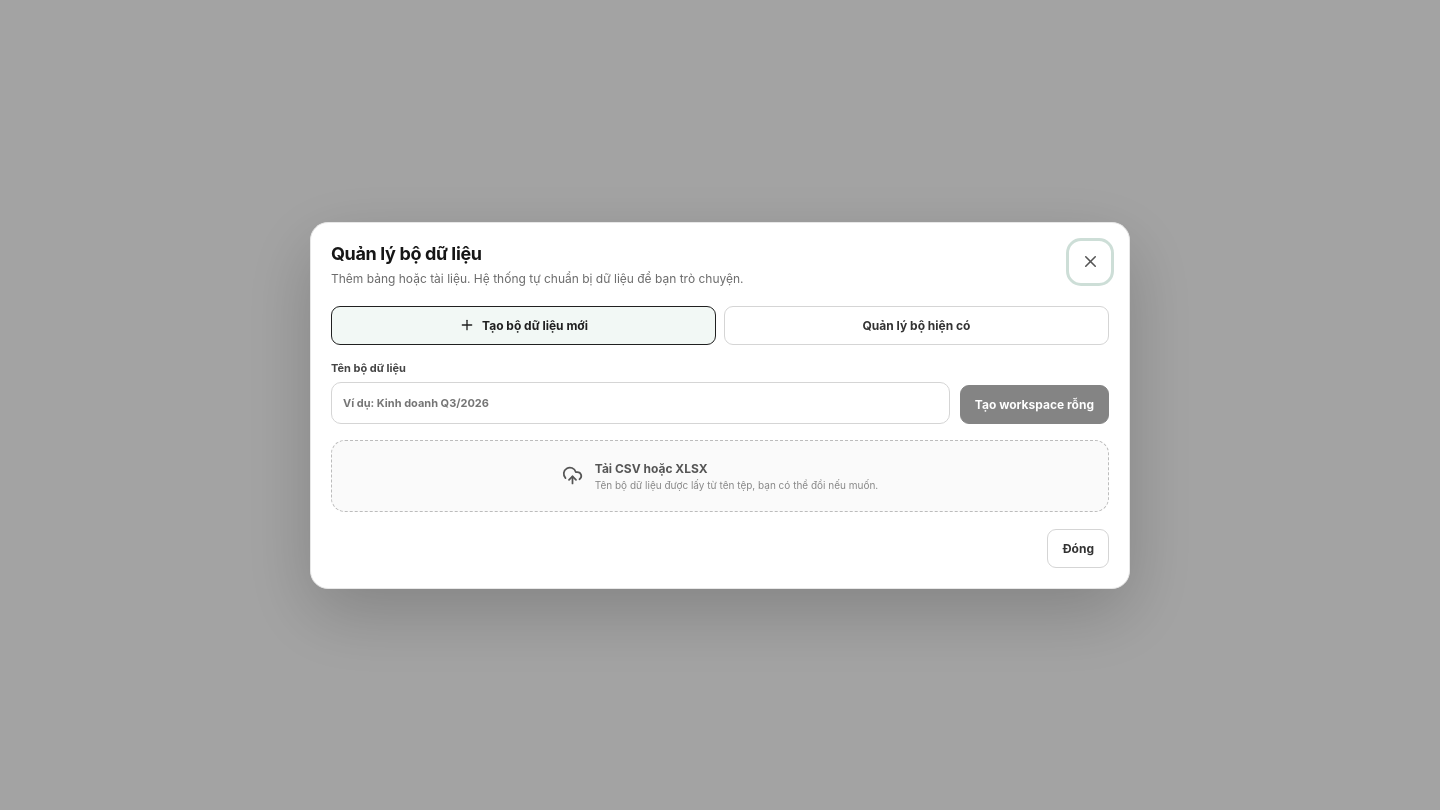
Test: workspace deletion › keeps sources on failure and requires explicit consent to delete history
Click the tab "Quản lý bộ hiện có".
click(916, 325)  # box top-left (724, 306), bottom-right (1109, 344)
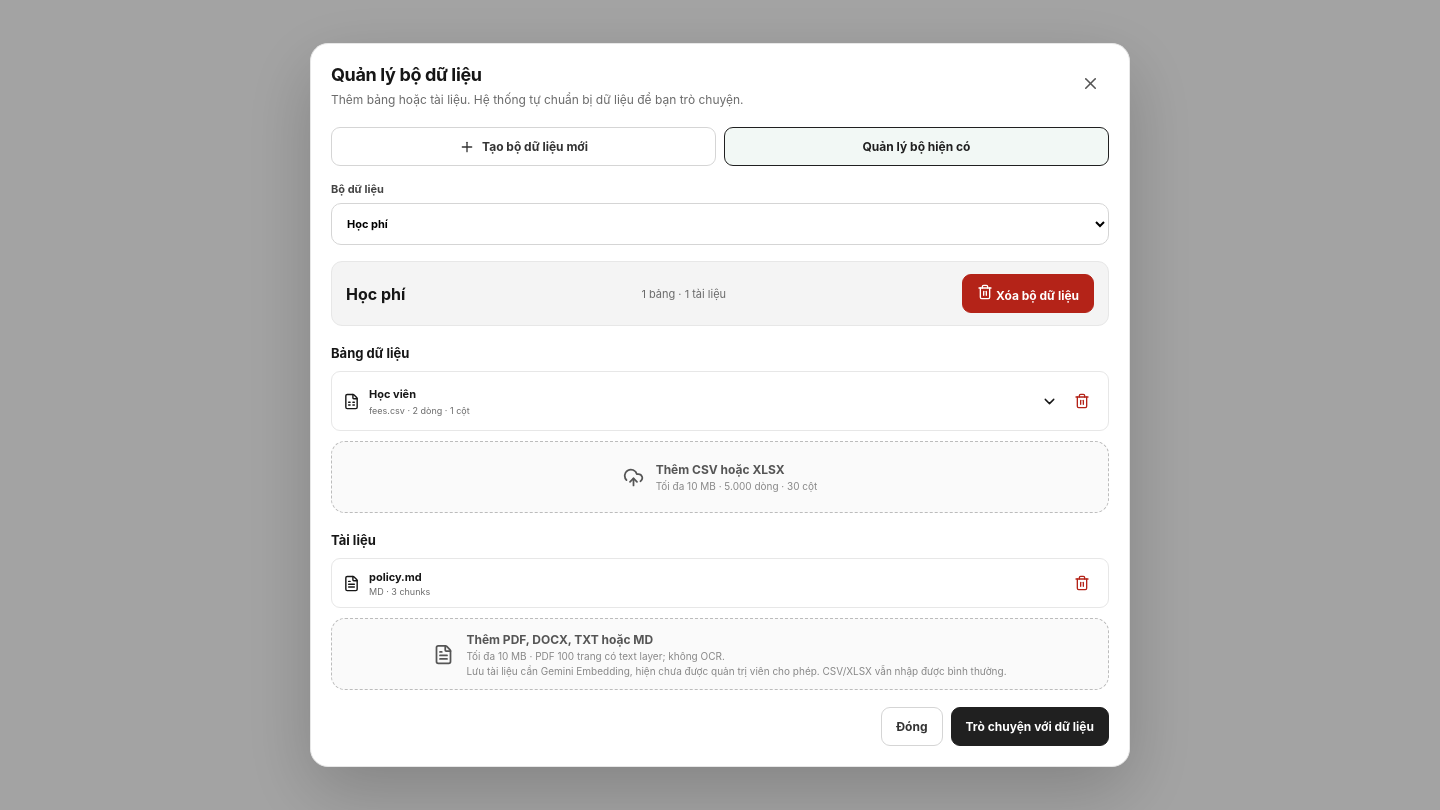
Expected: the text "policy.md" is shown, top-left (369, 570), bottom-right (422, 584)
Click the button "Xóa bộ dữ liệu".
click(1028, 294)  # box top-left (962, 274), bottom-right (1094, 313)
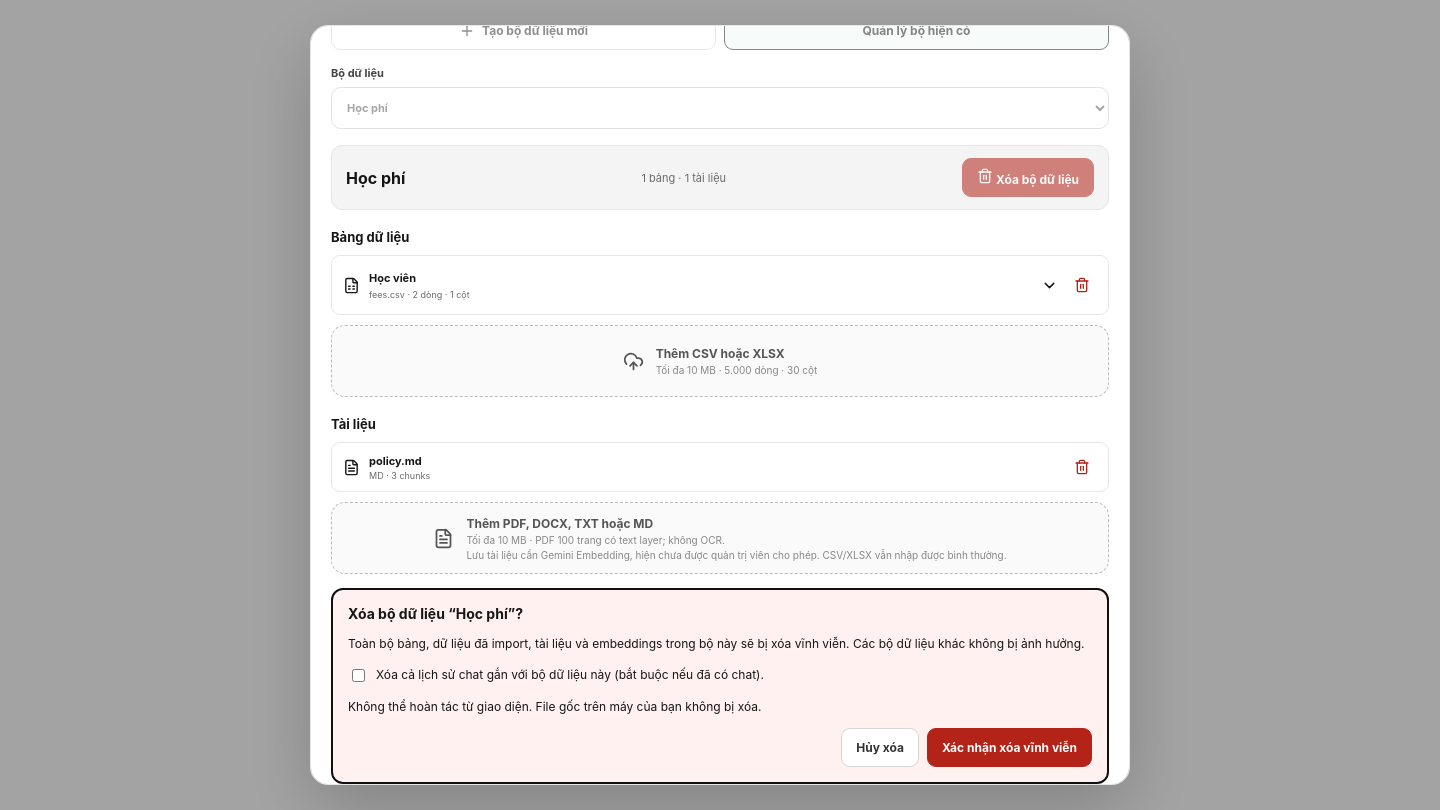
Click the button "Xác nhận xóa vĩnh viễn".
click(1009, 748)  # box top-left (927, 728), bottom-right (1092, 767)
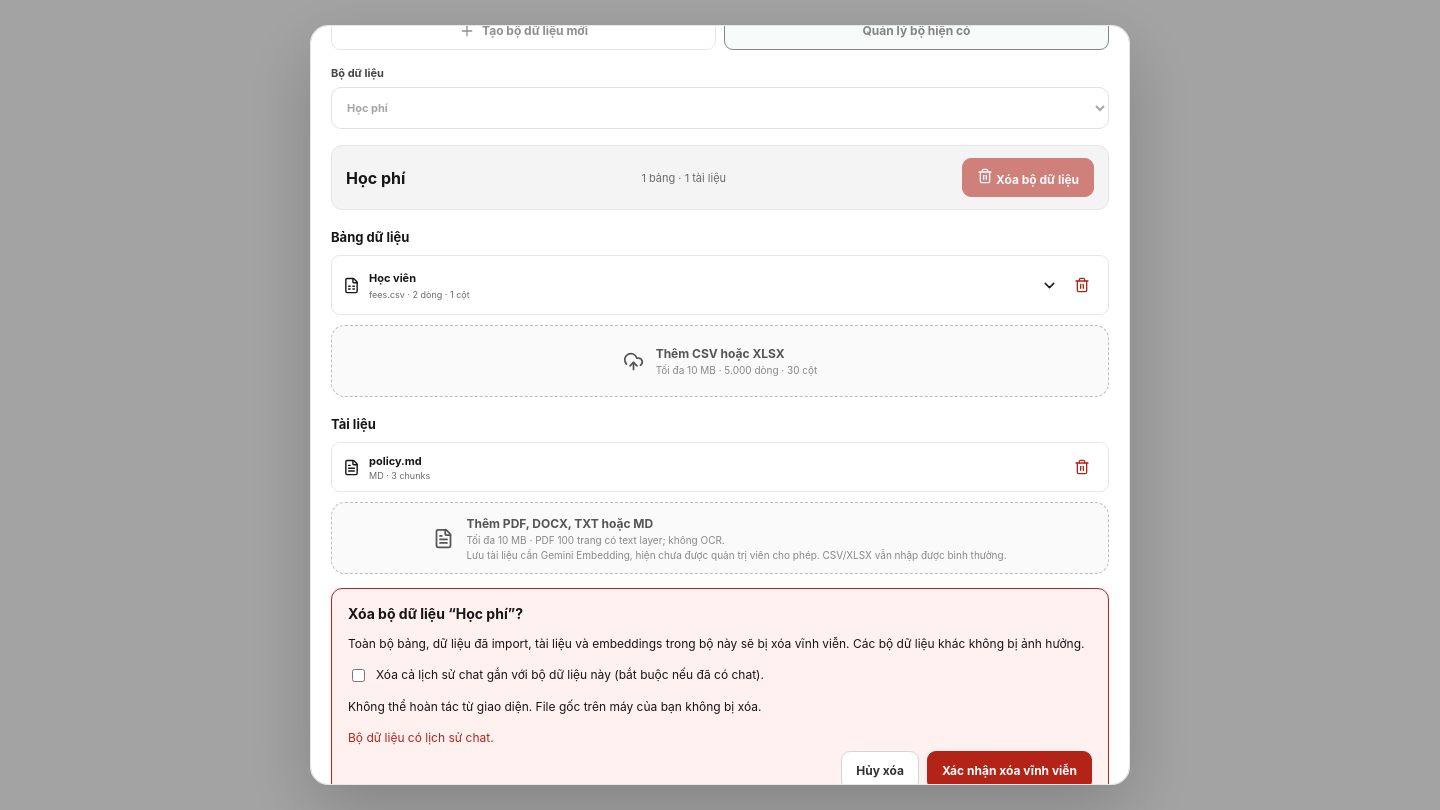
Expected: the text "policy.md" is shown, top-left (369, 454), bottom-right (422, 468)
Expected: the message reads "Bộ dữ liệu có lịch sử chat.", top-left (348, 730), bottom-right (494, 745)
Click the checkbox labelled "Xóa cả lịch sử chat".
click(358, 676)  # box top-left (352, 669), bottom-right (365, 682)
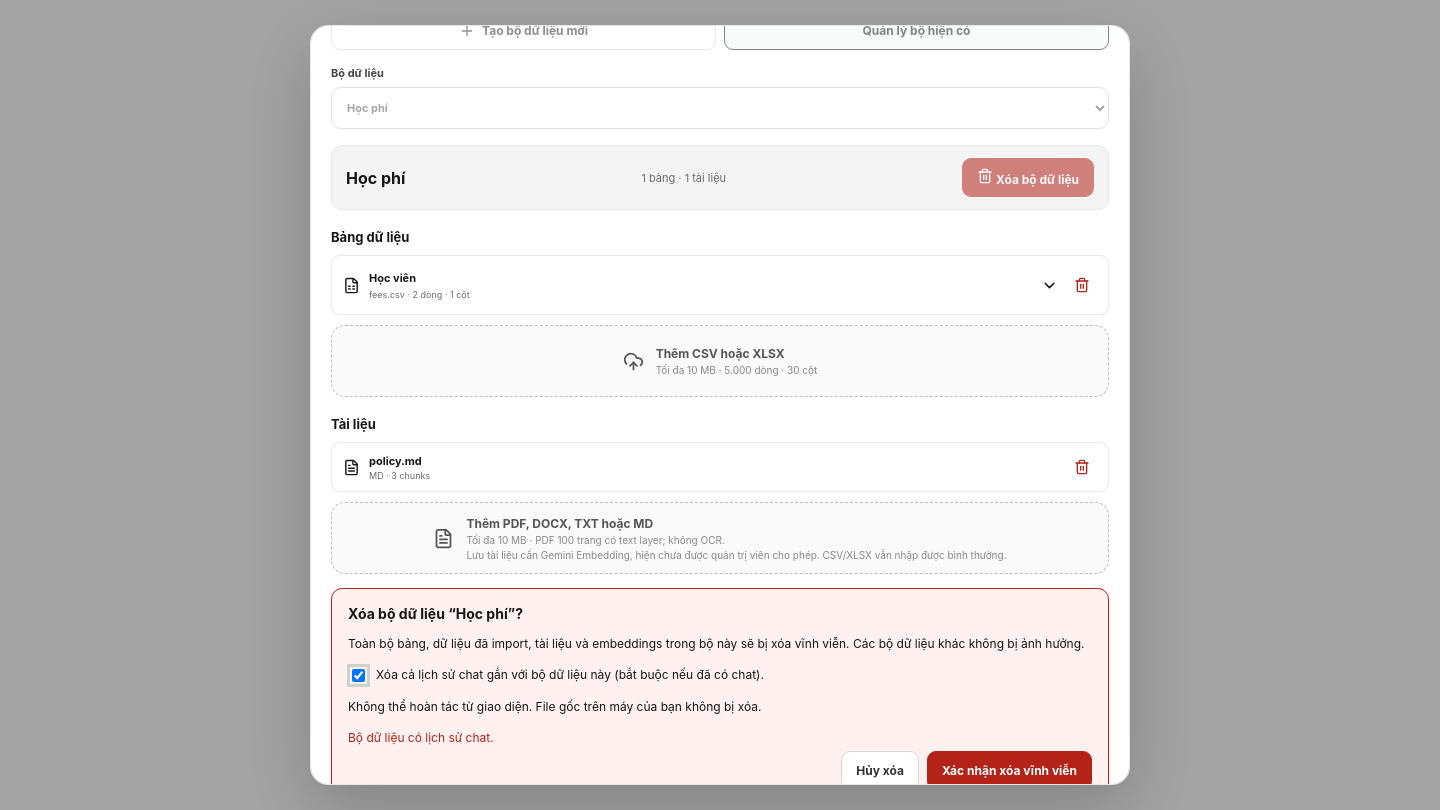
Click the button "Xác nhận xóa vĩnh viễn".
click(1009, 770)  # box top-left (927, 751), bottom-right (1092, 790)
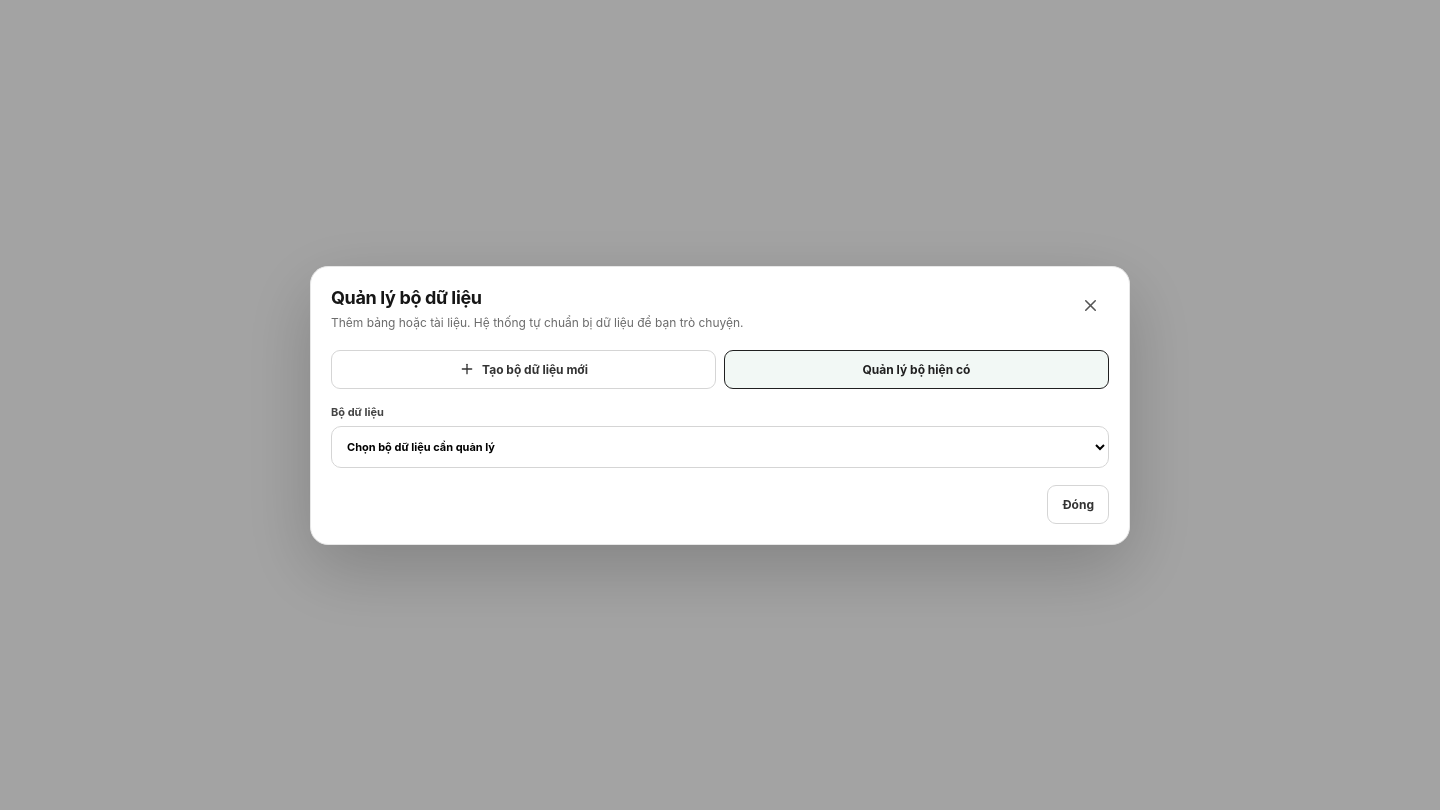
Expected: the text "policy.md" is gone
Expected: the dropdown labelled "Bộ dữ liệu" shows "Chọn bộ dữ liệu cần quản lý", top-left (331, 426), bottom-right (1109, 468)
